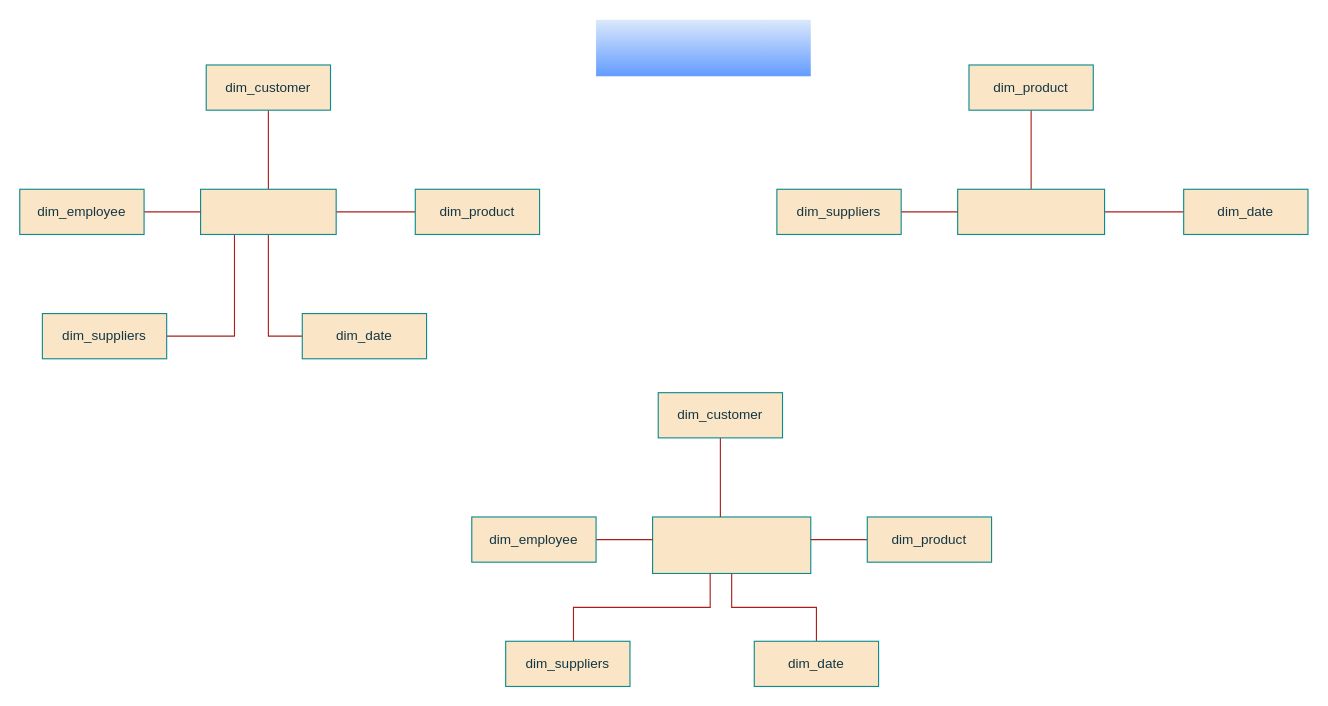
Image size: 1328x706. Some labels were removed from this diagram. The box of each missing label's shape, as (x1, y1, x2, y2) in pixels:
Conceptual Model: (596, 19, 810, 76)
fact_inventory: (957, 188, 1105, 234)
fact_purchase_order: (651, 516, 811, 573)
fact_sales: (199, 188, 336, 234)
